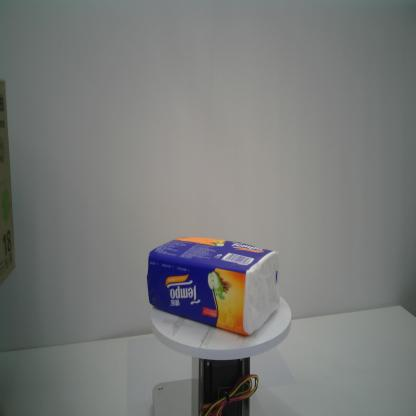Tissue: (146, 236, 282, 337)
